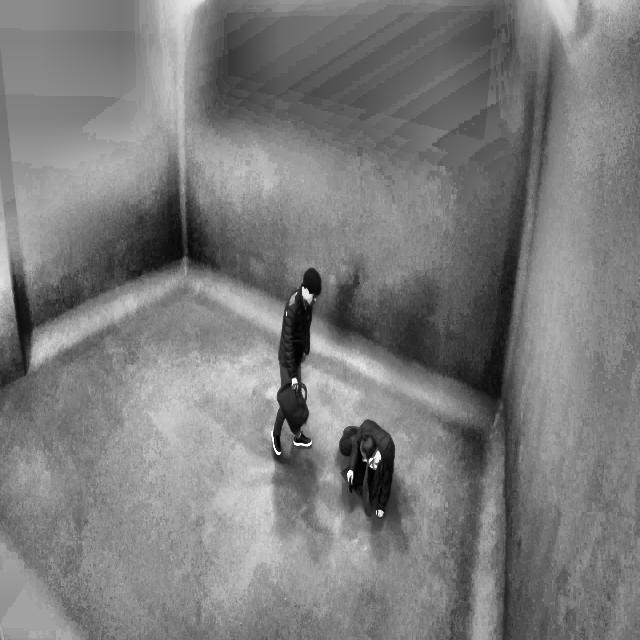assult: (267, 249, 408, 522), (332, 398, 406, 519)
